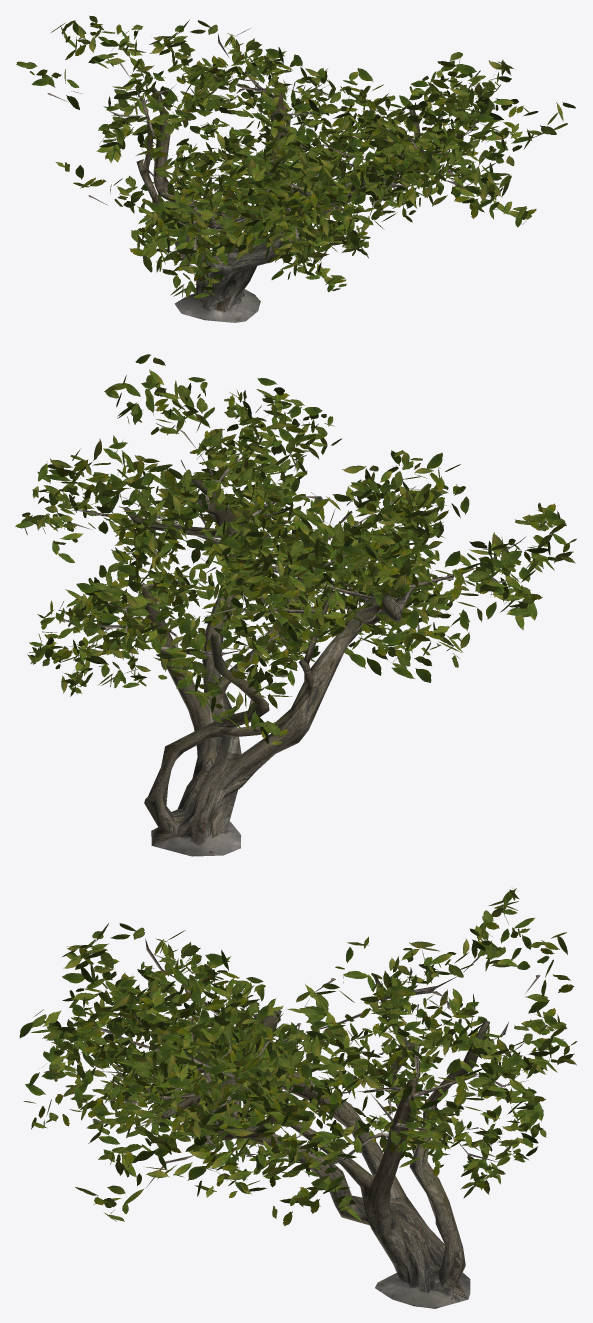
Rendered from verdant-shrub.glb.
3 views of the same model, one above another, from view 1: azimuth 30°, elevation 25°; view 2: azimuth 150°, elevation 25°; view 3: azimuth 270°, elevation 25° (orthographic). The views are drawn at different scales.
Visible parts, largest first — view 1: verdant-shrub-0; view 2: verdant-shrub-0; view 3: verdant-shrub-0.
Boxes of the visible parts, x1,y1,x2,y2 form: verdant-shrub-0: (16, 15, 575, 322); verdant-shrub-0: (15, 354, 576, 856); verdant-shrub-0: (19, 888, 577, 1308).
Size of the model in its own units: 1.27 by 0.8825 by 1.33.
3 materials, 3 textured.
